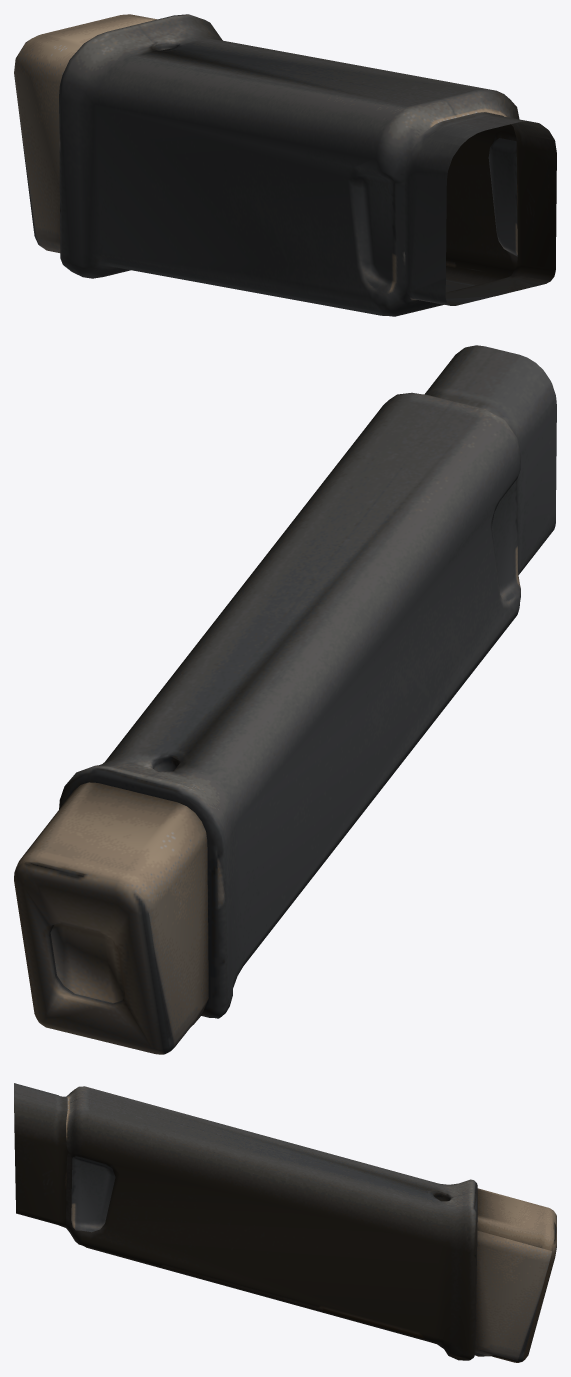
Rendered from Mag45ExtLg.fbx.
3 renders of one model, top to bottom at view 1: azimuth 30°, elevation 25°; view 2: azimuth 150°, elevation 25°; view 3: azimuth 270°, elevation 25°, orthographic. The views are drawn at different scales.
Visible parts, largest first — view 1: Mag45ExtLg; view 2: Mag45ExtLg; view 3: Mag45ExtLg.
Part boxes in pixels (x1,y1,x2,y2): Mag45ExtLg: [14, 14, 556, 316]; Mag45ExtLg: [14, 345, 556, 1054]; Mag45ExtLg: [14, 1083, 556, 1362].
Bounding box in the file's own units: 0.0244 × 0.0567 × 0.1097.
